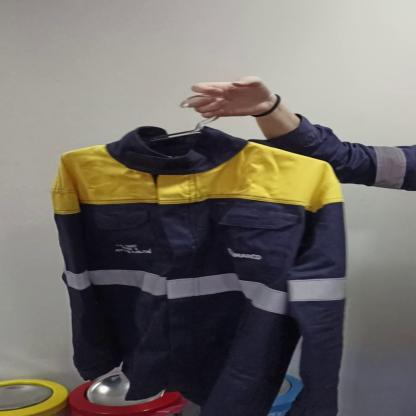C_eletrica: (49, 132, 348, 416)
